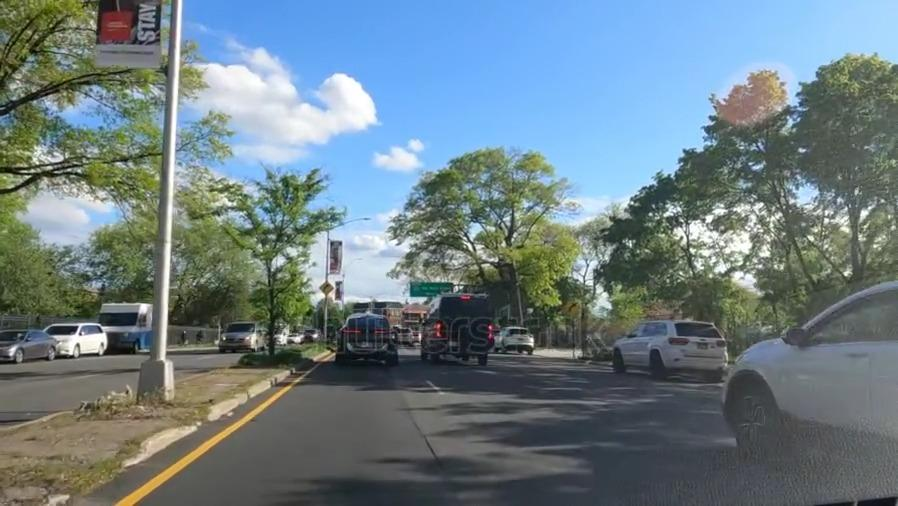car: (739, 283, 898, 461), (611, 317, 732, 376), (336, 314, 397, 364), (0, 326, 63, 365), (50, 322, 109, 361), (215, 322, 263, 353), (500, 322, 537, 352), (397, 326, 416, 346)
van: (422, 288, 497, 360), (97, 300, 153, 348)
wheel: (733, 384, 772, 467)
